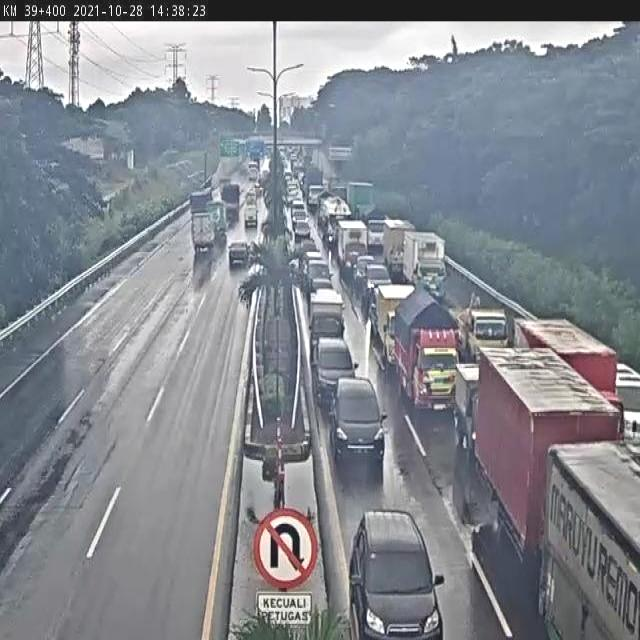Bus: (248, 161, 259, 183)
Car: (348, 508, 445, 637), (330, 376, 388, 471), (315, 336, 356, 408), (360, 264, 393, 315), (305, 258, 333, 292), (353, 254, 377, 292), (300, 250, 323, 278), (228, 240, 251, 264), (309, 275, 335, 295), (294, 221, 310, 242), (291, 209, 309, 227), (291, 199, 306, 217)
Truck: (474, 350, 621, 557), (515, 319, 619, 403), (391, 290, 459, 413), (446, 293, 511, 362), (371, 282, 416, 370), (307, 289, 349, 366), (454, 363, 489, 451), (402, 230, 447, 289), (382, 219, 416, 278), (614, 364, 639, 440), (334, 220, 368, 275), (323, 195, 352, 246), (362, 203, 388, 250), (190, 212, 216, 258), (206, 197, 228, 245), (347, 182, 375, 217), (220, 183, 242, 227), (304, 167, 324, 208), (317, 190, 335, 225), (189, 188, 213, 213), (330, 184, 348, 205)
Van: (244, 204, 258, 228), (246, 190, 257, 205)
